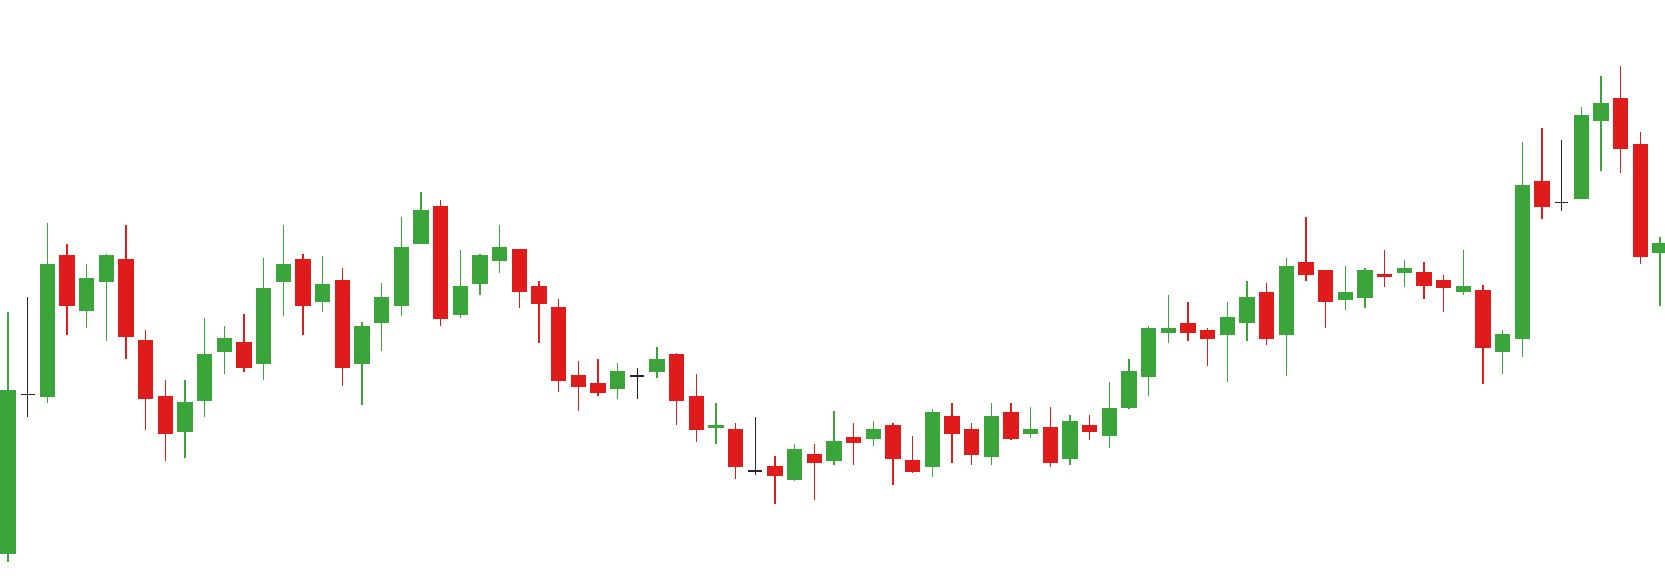buy: (1277, 270, 1511, 385)
sell: (273, 191, 447, 303)
